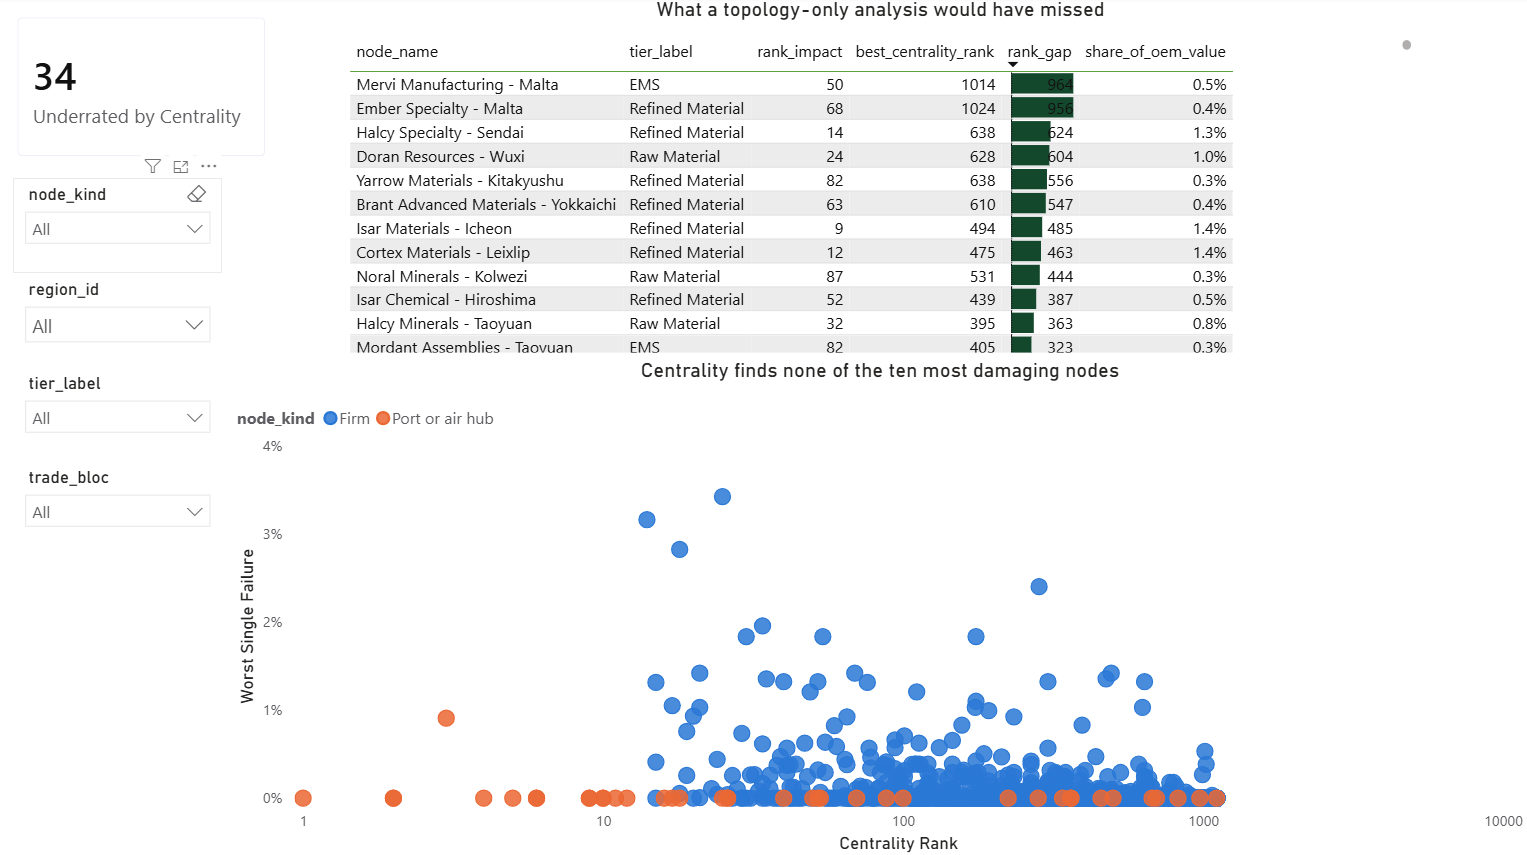

The dashboard page shown, as its layout file describes it:
{"tool":"powerbi","page":{"name":"Risk Register","canvas":[1280,720],"ordinal":1},"visuals":[{"type":"scatterChart","title":"Centrality finds none of the ten most damaging nodes","fields":{"X":["_Measures.Centrality Rank"],"Y":["_Measures.Worst Single Failure"],"Series":["fact_node_criticality.node_kind"],"Category":["fact_node_criticality.node_name"]},"box":[195.5,301.8,1084.5,418.2],"z":0},{"type":"tableEx","title":"What a topology-only analysis would have missed","fields":{"Values":["fact_node_criticality.node_name","fact_node_criticality.tier_label","fact_node_criticality.rank_impact","fact_node_criticality.best_centrality_rank","fact_node_criticality.rank_gap","fact_node_criticality.share_of_oem_value"]},"box":[289.1,0,898.2,301.8],"z":1000},{"type":"cardVisual","title":"Nodes centrality underrates","fields":{"Data":["_Measures.Underrated by Centrality"]},"box":[0,0,241.8,150.9],"z":2000},{"type":"slicer","fields":{"Values":["dim_node.region_id"]},"box":[13.6,230.9,174.5,78.2],"z":3000},{"type":"slicer","fields":{"Values":["dim_node.tier_label"]},"box":[13.6,309.1,174.5,78.2],"z":4000},{"type":"slicer","fields":{"Values":["dim_node.trade_bloc"]},"box":[13.6,387.3,174.5,78.2],"z":5000},{"type":"slicer","fields":{"Values":["fact_node_criticality.node_kind"]},"box":[13.6,150.9,174.5,80],"z":6000}]}

Visuals, with their boxes on the page's 1280x720 design canvas (x1, y1, x2, y2). These are canvas units, not pixel positions in the 1527x855 screenshot, which may show the page scaled, cropped or inside an application window:
"Centrality finds none of the ten most damaging nodes" scatterChart: box=[196, 302, 1280, 720]
"What a topology-only analysis would have missed" tableEx: box=[289, 0, 1187, 302]
"Nodes centrality underrates" cardVisual: box=[0, 0, 242, 151]
slicer - dim_node.region_id: box=[14, 231, 188, 309]
slicer - dim_node.tier_label: box=[14, 309, 188, 387]
slicer - dim_node.trade_bloc: box=[14, 387, 188, 466]
slicer - fact_node_criticality.node_kind: box=[14, 151, 188, 231]
